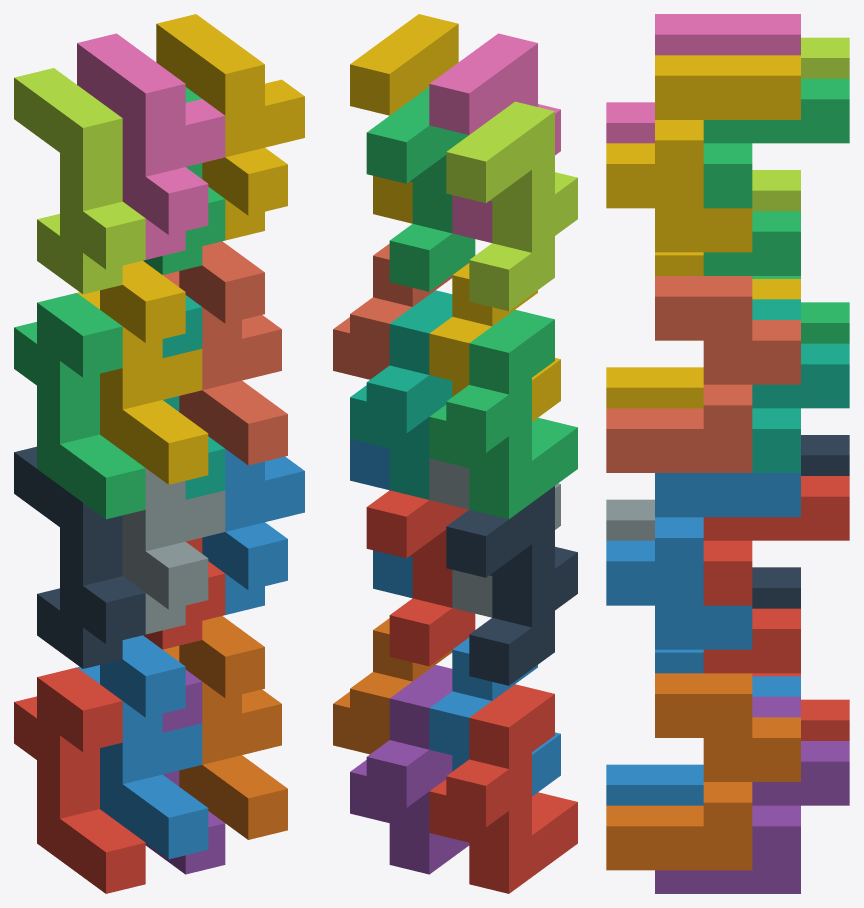
The model's file is tiling.obj.
The picture shows the model from 3 angles, left to right: view 1: azimuth 30°, elevation 25°; view 2: azimuth 150°, elevation 25°; view 3: azimuth 270°, elevation 25°; orthographic projection. The views are drawn at different scales.
Parts seen in each view (by area): view 1: copy_2_domain_4, copy_2_domain_3, copy_1_domain_1, copy_1_domain_3, copy_1_domain_2, copy_1_domain_4, copy_2_domain_8, copy_1_domain_8, copy_1_domain_6, copy_2_domain_1, copy_2_domain_2, copy_2_domain_6 (+4 smaller); view 2: copy_1_domain_1, copy_1_domain_3, copy_2_domain_3, copy_2_domain_1, copy_1_domain_5, copy_2_domain_7, copy_1_domain_7, copy_2_domain_5, copy_2_domain_4, copy_2_domain_8, copy_1_domain_2, copy_1_domain_4 (+4 smaller); view 3: copy_1_domain_6, copy_1_domain_8, copy_2_domain_8, copy_2_domain_6, copy_2_domain_5, copy_2_domain_7, copy_1_domain_5, copy_1_domain_7, copy_2_domain_4, copy_1_domain_2, copy_1_domain_4, copy_2_domain_3 (+4 smaller).
Boxes of the visible parts, <box> form: copy_2_domain_4: <box>77,33,225,259</box>; copy_2_domain_3: <box>14,68,145,294</box>; copy_1_domain_1: <box>14,667,145,893</box>; copy_1_domain_3: <box>14,293,145,519</box>; copy_1_domain_2: <box>77,635,208,859</box>; copy_1_domain_4: <box>77,260,208,484</box>; copy_2_domain_8: <box>156,14,304,240</box>; copy_1_domain_8: <box>163,241,287,465</box>; copy_1_domain_6: <box>163,616,287,839</box>; copy_2_domain_1: <box>14,446,145,668</box>; copy_2_domain_2: <box>122,468,225,634</box>; copy_2_domain_6: <box>202,449,304,614</box>; copy_1_domain_1: <box>429,684,577,893</box>; copy_1_domain_3: <box>429,309,577,519</box>; copy_2_domain_3: <box>446,101,577,311</box>; copy_2_domain_1: <box>446,486,577,685</box>; copy_1_domain_5: <box>350,665,469,874</box>; copy_2_domain_7: <box>366,87,475,291</box>; copy_1_domain_7: <box>350,290,452,499</box>; copy_2_domain_5: <box>366,490,475,666</box>; copy_2_domain_4: <box>429,33,560,242</box>; copy_2_domain_8: <box>350,14,458,223</box>; copy_1_domain_2: <box>429,637,560,796</box>; copy_1_domain_4: <box>429,263,560,421</box>; copy_1_domain_6: <box>606,673,800,870</box>; copy_1_domain_8: <box>606,276,800,472</box>; copy_2_domain_8: <box>606,55,800,252</box>; copy_2_domain_6: <box>606,473,800,649</box>; copy_2_domain_5: <box>703,476,849,673</box>; copy_2_domain_7: <box>703,78,849,275</box>; copy_1_domain_5: <box>655,696,849,893</box>; copy_1_domain_7: <box>752,299,849,472</box>; copy_2_domain_4: <box>606,14,800,143</box>; copy_1_domain_2: <box>606,649,800,805</box>; copy_1_domain_4: <box>606,252,800,408</box>; copy_2_domain_3: <box>752,37,849,211</box>.
Size of the model in its own units: 5 by 19 by 5.
